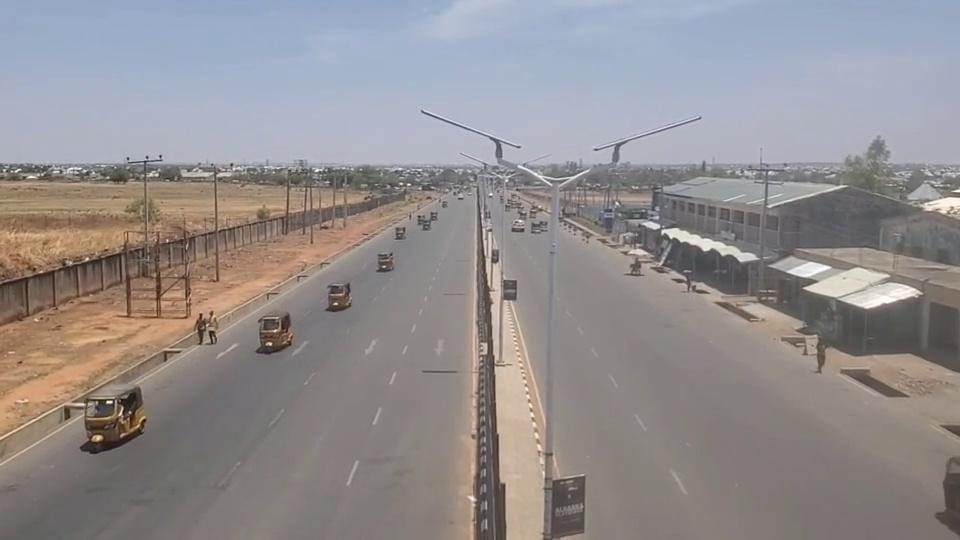car: (513, 220, 525, 232)
keke: (83, 384, 146, 446), (941, 453, 960, 534), (257, 312, 293, 352), (326, 281, 352, 310), (377, 251, 394, 272)
